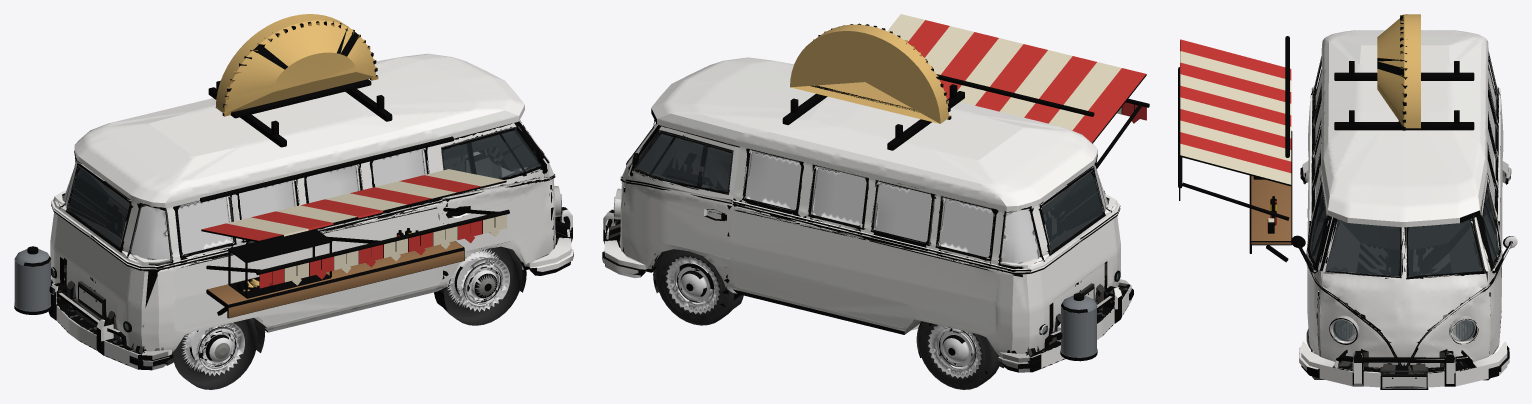
Rendered from pastelzao.glb.
3 views of the same model, side by side, from view 1: azimuth 30°, elevation 25°; view 2: azimuth 150°, elevation 25°; view 3: azimuth 270°, elevation 25° (orthographic). The views are drawn at different scales.
Parts seen in each view (by area): view 1: body, trunk, door_fr, bumper_rear, glass_door_fr, glass_rear, wheel_fr_rim, wheel_rr_rim, wheel_fr_tire, wheel_rr_tire; view 2: body, trunk, door_fl, bumper_rear, glass_door_fl, glass_rear, wheel_fl_tire, wheel_rl_tire, wheel_fl_rim, wheel_rl_rim; view 3: body, glass_windshield, trunk, bumper_front, door_fl, door_fr, glass_door_fl, glass_door_fr, headlight_left, headlight_right.
Part boxes in pixels (bbox=[...]): body: bbox=[50, 53, 573, 370]; trunk: bbox=[208, 14, 392, 147]; door_fr: bbox=[435, 122, 553, 263]; bumper_rear: bbox=[14, 246, 143, 369]; glass_door_fr: bbox=[442, 129, 540, 178]; glass_rear: bbox=[68, 168, 129, 247]; wheel_fr_rim: bbox=[450, 251, 509, 311]; wheel_rr_rim: bbox=[185, 323, 244, 375]; wheel_fr_tire: bbox=[443, 246, 524, 325]; wheel_rr_tire: bbox=[172, 318, 257, 389]; body: bbox=[602, 14, 1149, 372]; trunk: bbox=[782, 23, 964, 150]; door_fl: bbox=[622, 125, 739, 266]; bumper_rear: bbox=[1028, 284, 1133, 372]; glass_door_fl: bbox=[634, 132, 731, 191]; glass_rear: bbox=[1041, 172, 1102, 250]; wheel_fl_tire: bbox=[652, 249, 734, 325]; wheel_rl_tire: bbox=[917, 321, 1000, 389]; wheel_fl_rim: bbox=[668, 257, 717, 311]; wheel_rl_rim: bbox=[930, 325, 980, 375]; body: bbox=[1178, 30, 1517, 389]; glass_windshield: bbox=[1326, 219, 1481, 276]; trunk: bbox=[1334, 14, 1474, 130]; bumper_front: bbox=[1332, 351, 1476, 388]; door_fl: bbox=[1476, 177, 1502, 355]; door_fr: bbox=[1305, 180, 1332, 355]; glass_door_fl: bbox=[1483, 192, 1498, 262]; glass_door_fr: bbox=[1310, 192, 1325, 261]; headlight_left: bbox=[1453, 320, 1475, 341]; headlight_right: bbox=[1333, 320, 1355, 341].
Size of the model in its own units: 4.76 by 2.73 by 2.91.
6 materials, 5 textured.
